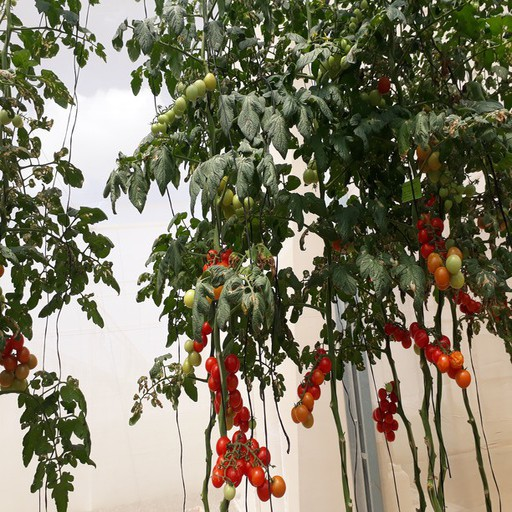green tomato bunch: (151, 72, 219, 134), (417, 145, 476, 208), (317, 1, 368, 73), (209, 179, 262, 231), (472, 196, 512, 240), (305, 150, 325, 186)
mixed tomato bunch: (415, 215, 466, 290), (1, 334, 36, 394), (179, 321, 212, 375)
red tomato bunch: (216, 432, 286, 501), (408, 323, 472, 386), (206, 354, 252, 429), (296, 347, 332, 429), (196, 250, 240, 301), (373, 380, 400, 442), (381, 322, 414, 349)
